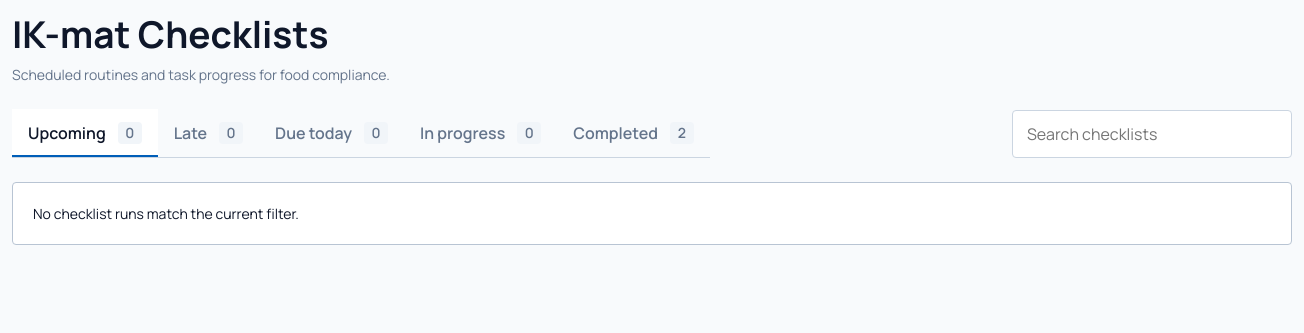
it: IKMatChecklistsPage › shows all completed runs even when they share a checklist definition group
The image size is (1304, 333).
Click the button with class "triage-tab" showing "Completed 2": (634, 133) [557,109,710,157]
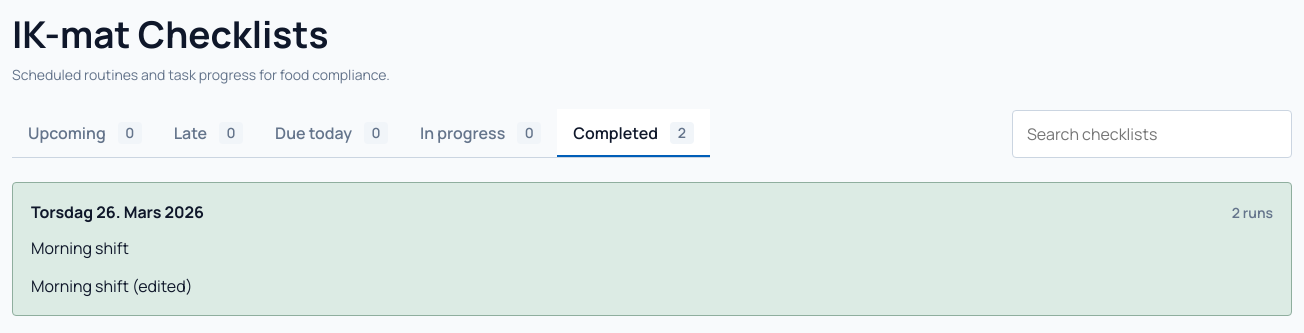
Expected: the text "Morning shift" is shown, [31,237,129,259]
Expected: the text "Morning shift (edited)" is shown, [31,275,192,297]
Expected: the number of elements with class "run-card-stub" is 2, [31,237,129,259]; [31,275,192,297]
